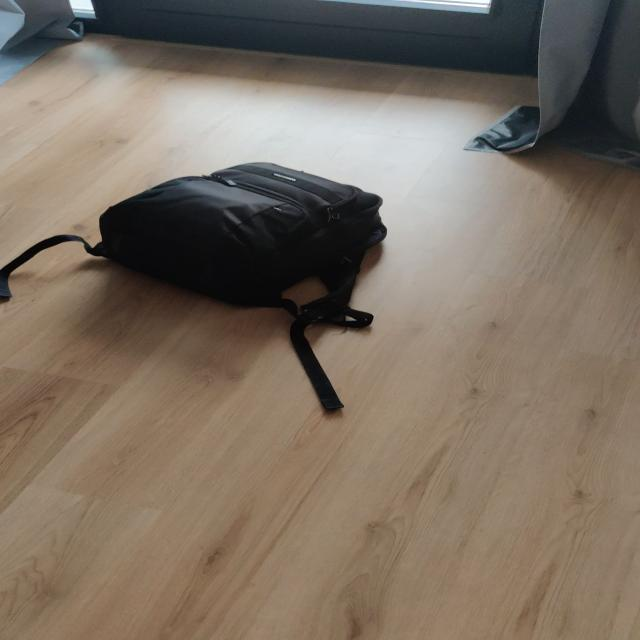backpack: (77, 156, 398, 313)
